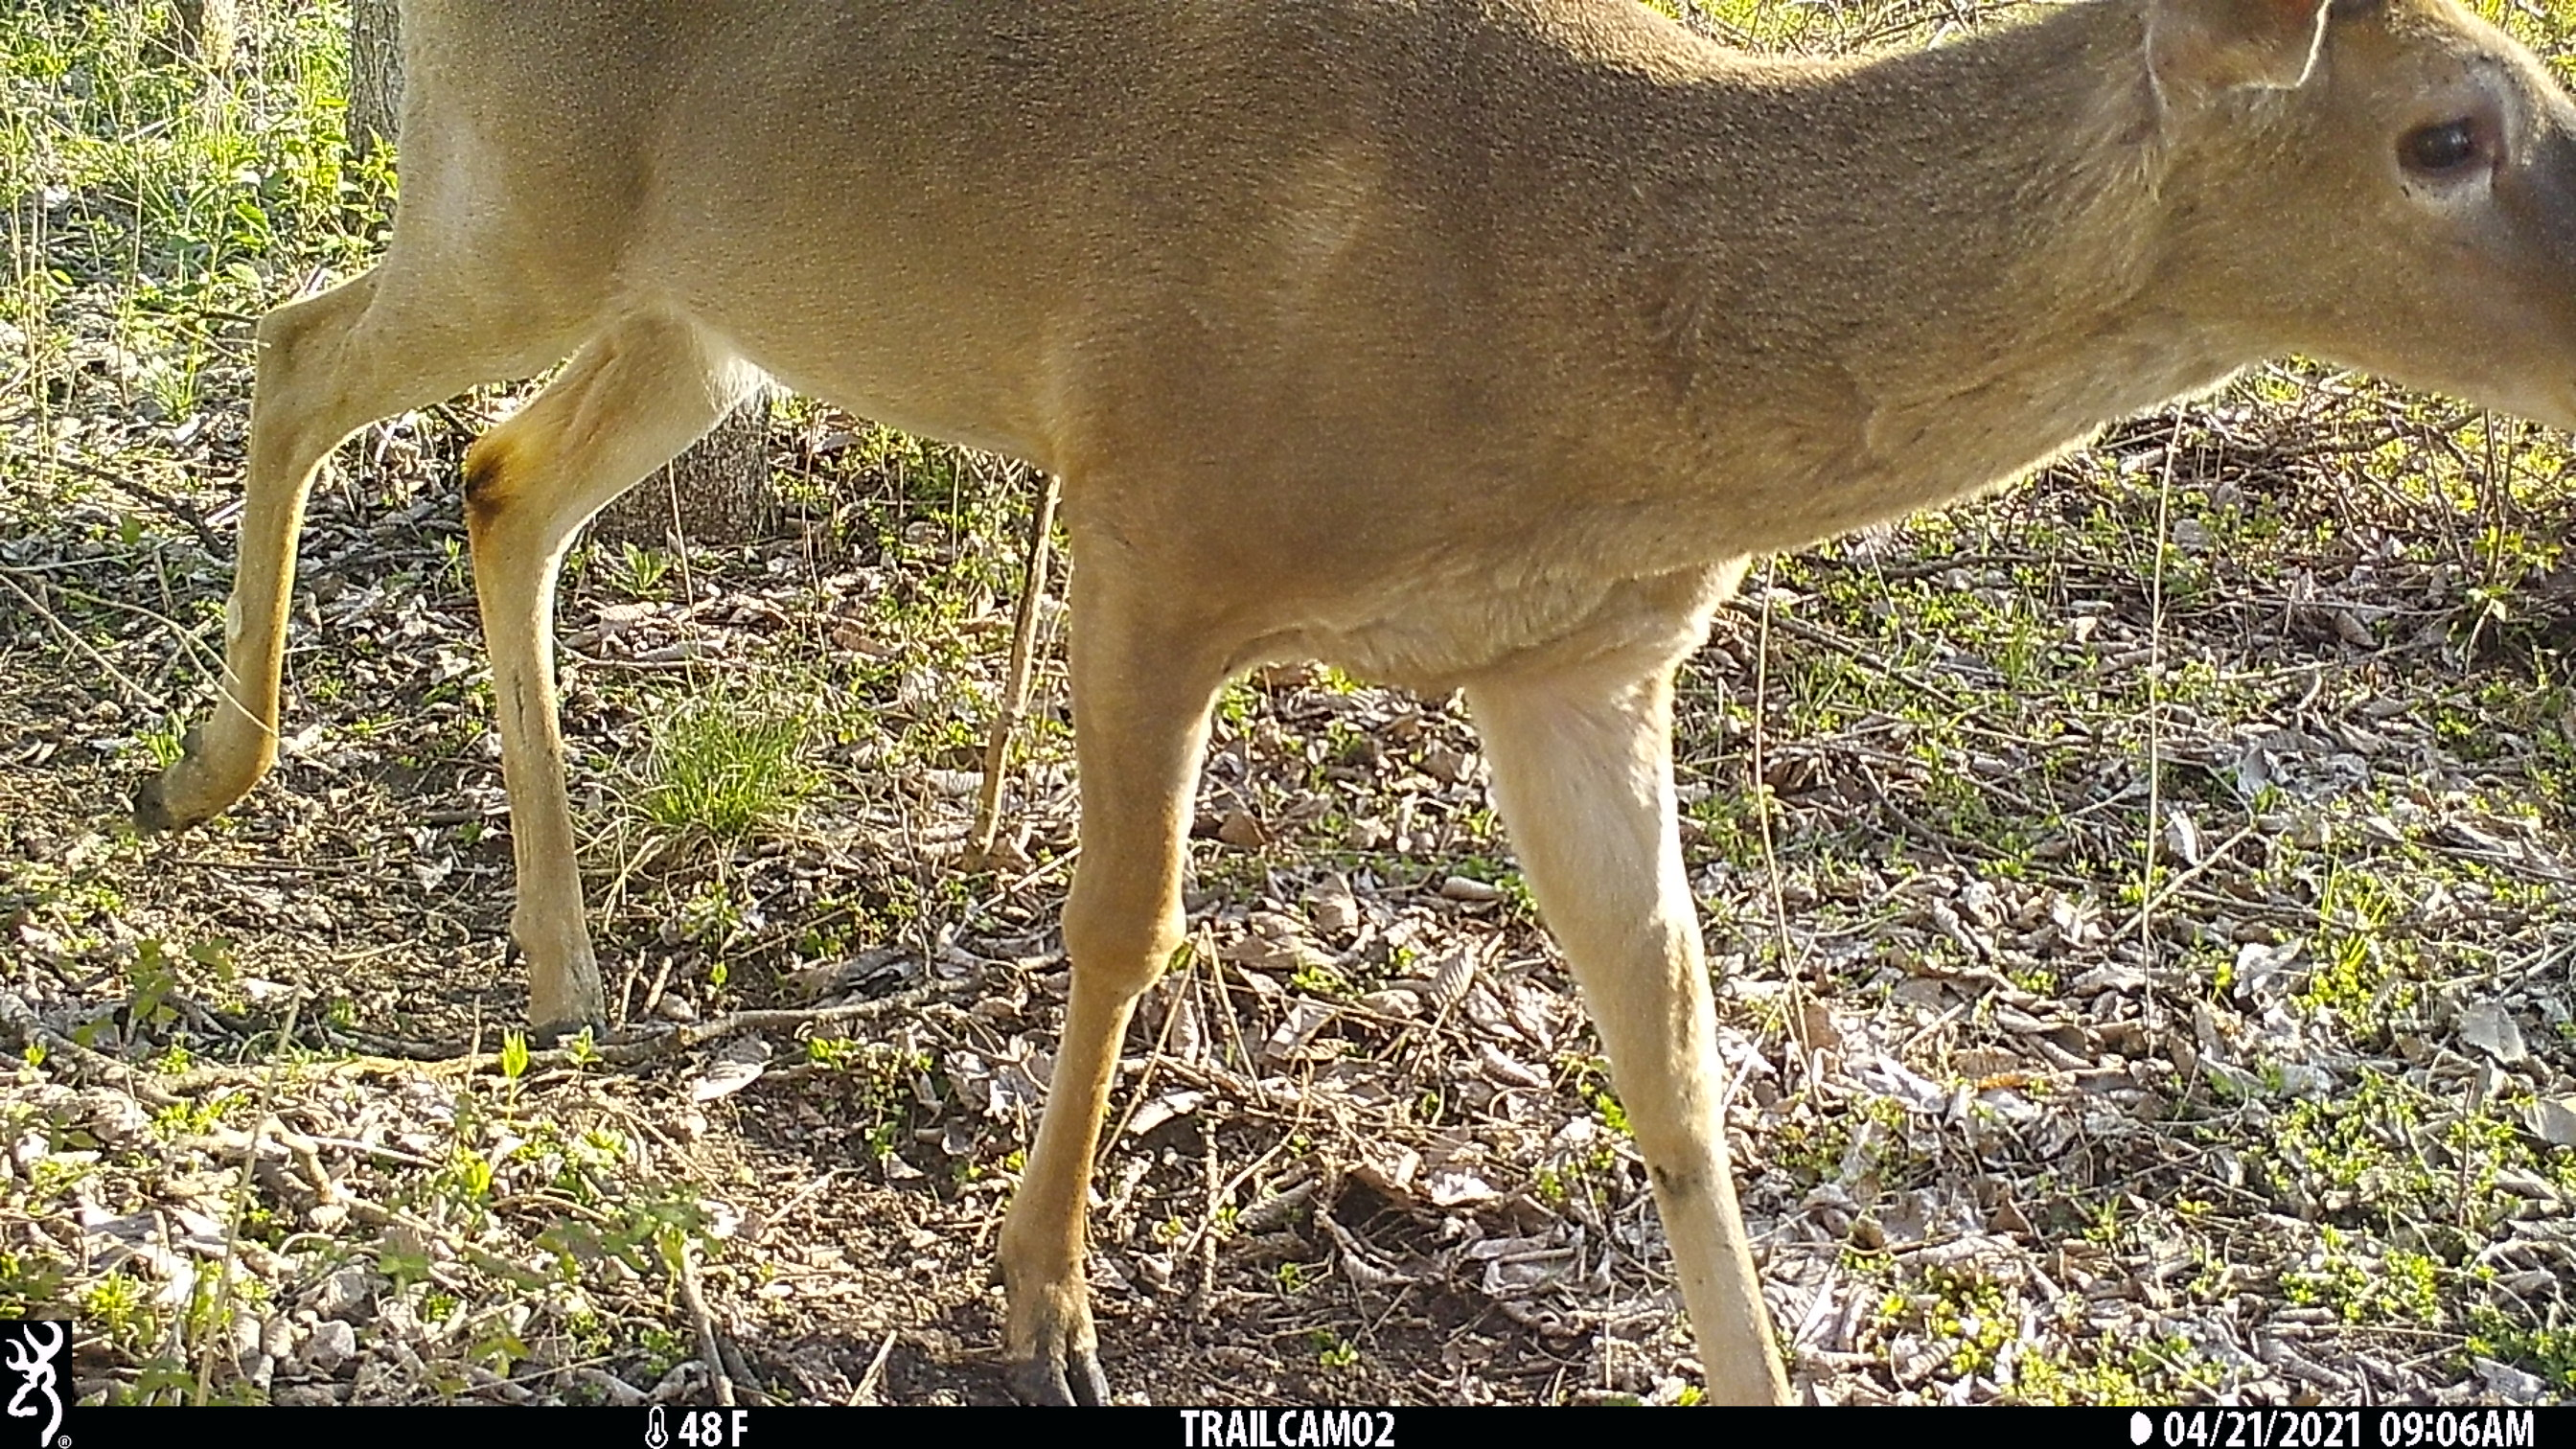Deer: (134, 2, 2576, 1410)
